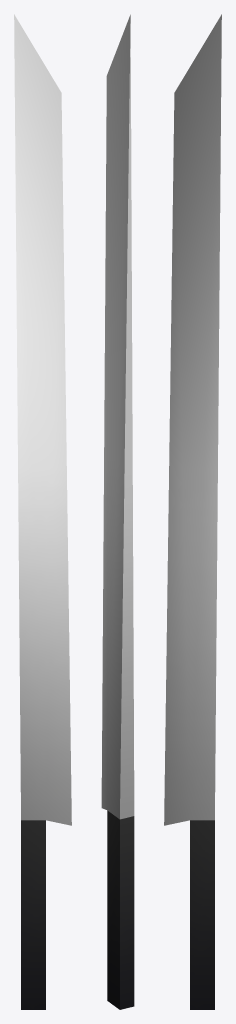
File: Weapon_cyberpunk_thin_sword.fbx
The picture shows the model from 3 angles, left to right: view 1: azimuth 90°, elevation 25°; view 2: azimuth 210°, elevation 25°; view 3: azimuth 270°, elevation 25°; orthographic projection.
Parts seen in each view (by area): view 1: W_KT_1; view 2: W_KT_1; view 3: W_KT_1.
Part boxes in pixels (<box>): W_KT_1: <box>14,14,71,1009</box>; W_KT_1: <box>101,14,134,1009</box>; W_KT_1: <box>164,14,221,1009</box>.
Size of the model in its own units: 1.74 by 114 by 6.04.
